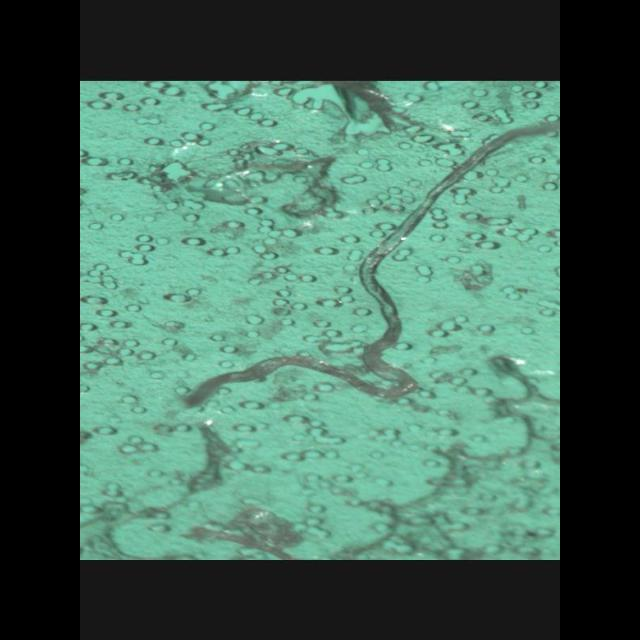Fibre: (182, 108, 560, 408)
